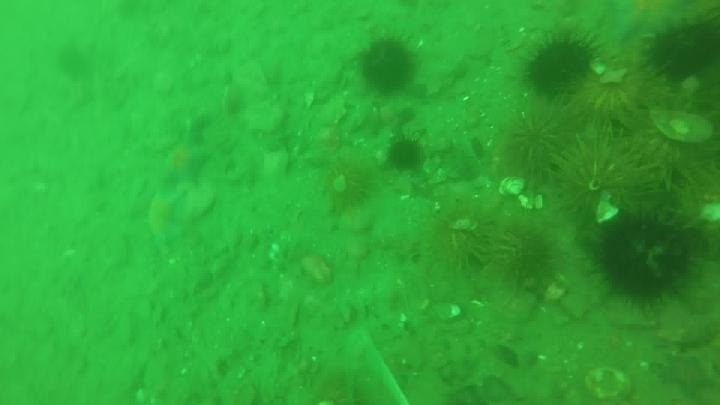echinus: (549, 131, 665, 234), (594, 209, 699, 309), (499, 105, 578, 183), (566, 53, 647, 129), (425, 201, 501, 273), (522, 32, 600, 98), (644, 17, 718, 84), (489, 221, 557, 288), (356, 36, 419, 97), (318, 152, 377, 216), (385, 136, 426, 174), (54, 42, 93, 81)
holothurian: (439, 341, 569, 405)
starfish: (606, 1, 688, 45), (158, 129, 214, 190), (656, 352, 718, 401), (143, 188, 189, 251)
